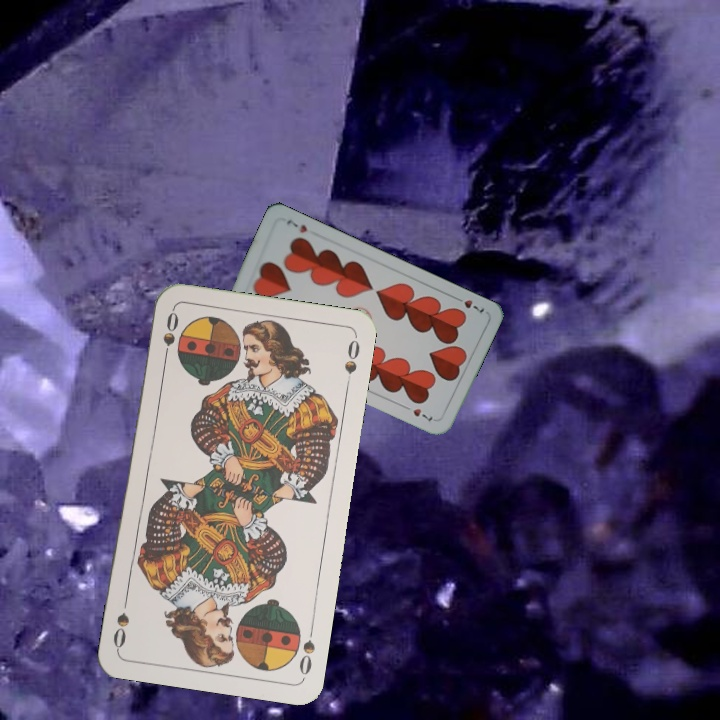H7: (450, 292, 487, 316)
SO: (295, 621, 318, 678), (159, 307, 181, 366)
